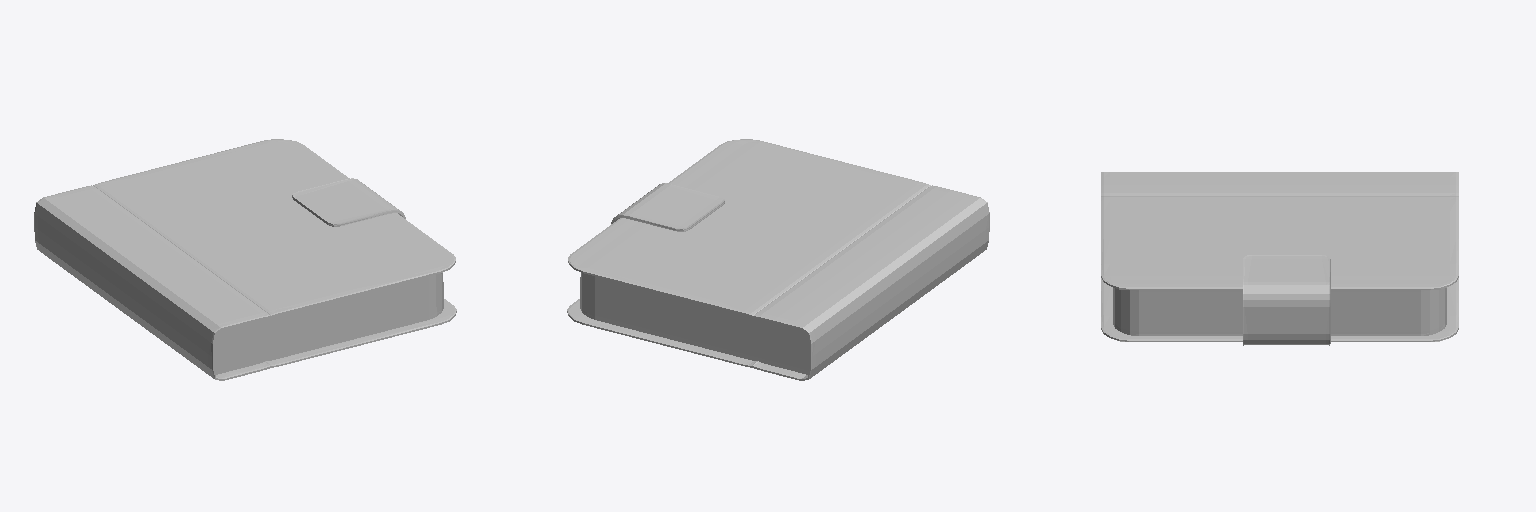
Rendered from Diary.obj.
The picture shows the model from 3 angles: view 1: azimuth 30°, elevation 25°; view 2: azimuth 150°, elevation 25°; view 3: azimuth 270°, elevation 25°; orthographic projection.
Visible parts, largest first — view 1: cover, pile_of_leaves, uvula; view 2: cover, pile_of_leaves, uvula; view 3: cover, pile_of_leaves, uvula.
Part boxes in pixels (bbox=[...]): cover: bbox=[34, 139, 456, 380]; pile_of_leaves: bbox=[214, 273, 443, 374]; uvula: bbox=[292, 178, 405, 226]; cover: bbox=[567, 139, 989, 380]; pile_of_leaves: bbox=[580, 273, 809, 374]; uvula: bbox=[611, 183, 724, 231]; cover: bbox=[1101, 172, 1458, 341]; pile_of_leaves: bbox=[1113, 288, 1446, 335]; uvula: bbox=[1243, 255, 1330, 345].
Bounding box in the file's own units: 0.1855 × 0.0404 × 0.216.